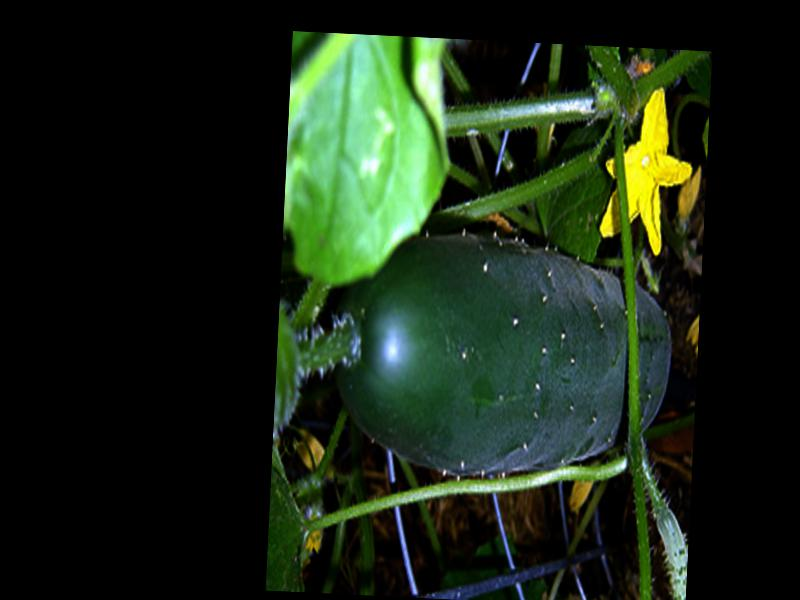Cucumber: (323, 227, 673, 483)
